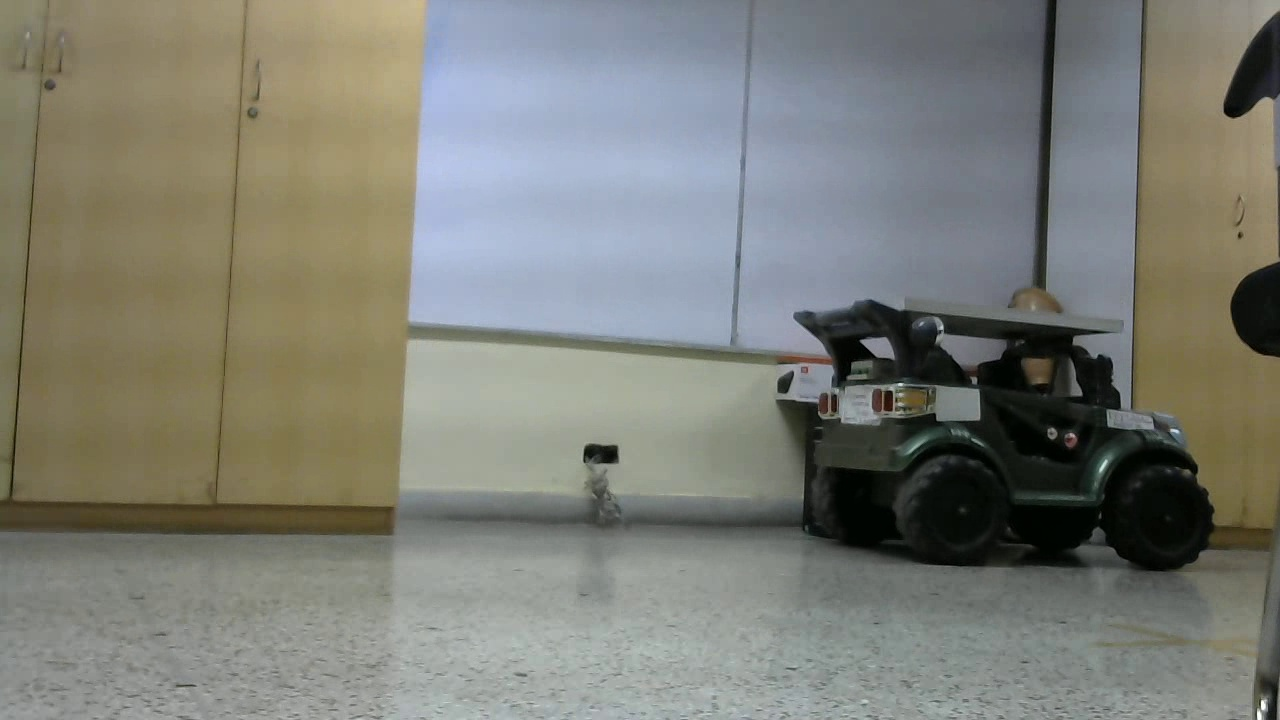chair: (772, 3, 1100, 612)
